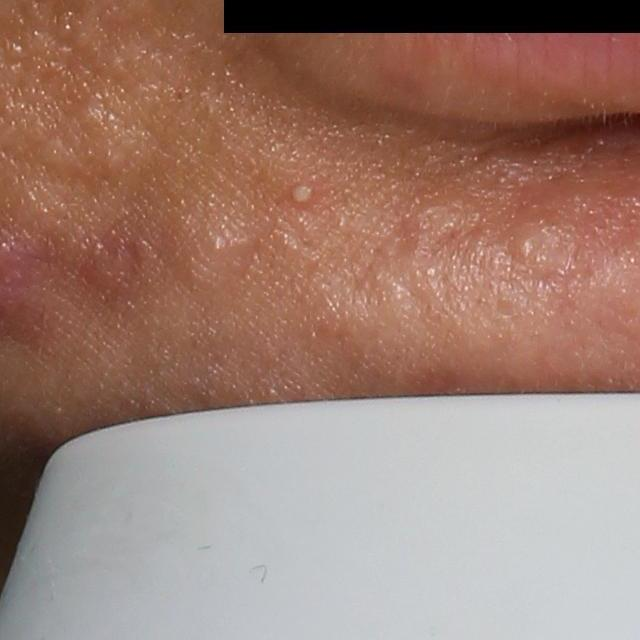hypertrophic_scar: (165, 198, 267, 296), (398, 196, 477, 252)
papule: (90, 245, 142, 293)
pustule: (278, 179, 320, 211)
